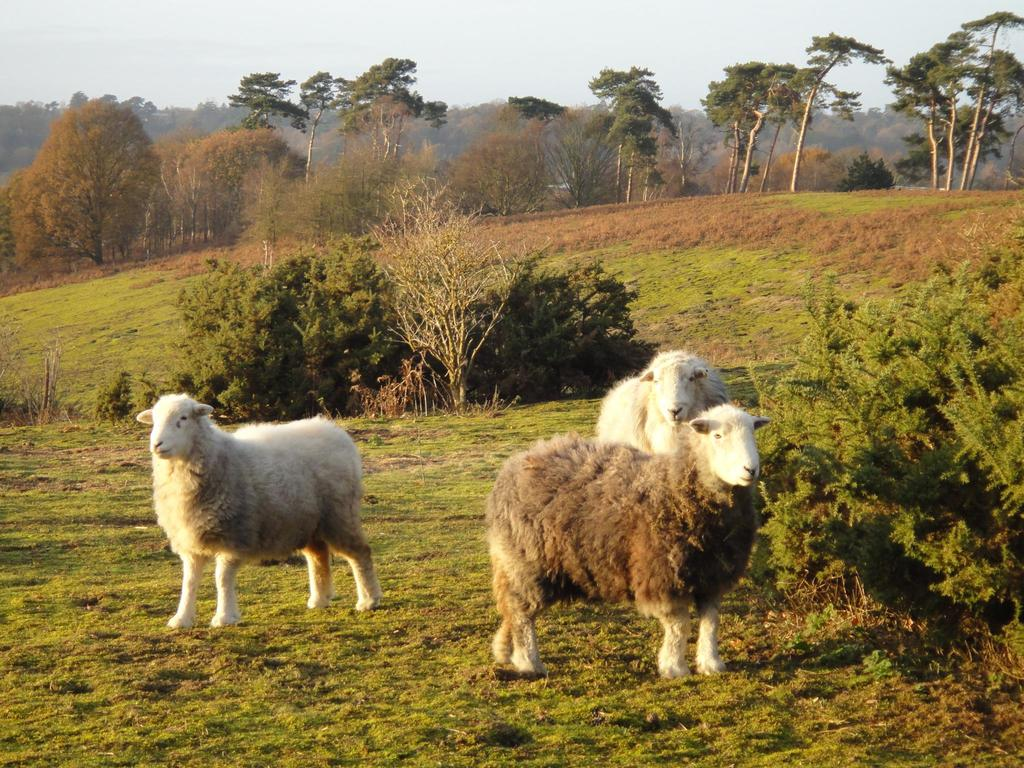sheep: (485, 400, 770, 679), (135, 392, 382, 628)
